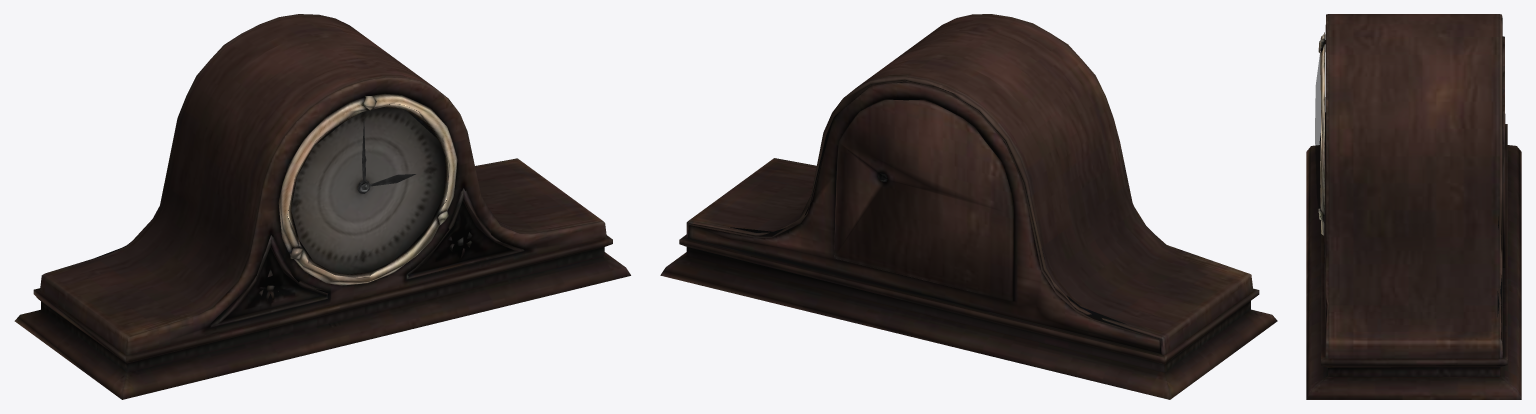
Rendered from mantel_clock_01.glb.
The picture shows the model from 3 angles, left to right: view 1: azimuth 30°, elevation 25°; view 2: azimuth 150°, elevation 25°; view 3: azimuth 270°, elevation 25°; orthographic projection.
Parts seen in each view (by area): view 1: mantel_clock_01, mantel_clock_01_glass; view 2: mantel_clock_01; view 3: mantel_clock_01, mantel_clock_01_glass.
Boxes of the visible parts, <box> form: mantel_clock_01: <box>14,14,630,399</box>; mantel_clock_01_glass: <box>289,105,447,276</box>; mantel_clock_01: <box>660,14,1277,399</box>; mantel_clock_01: <box>1306,14,1521,399</box>; mantel_clock_01_glass: <box>1315,50,1320,221</box>.
Size of the model in its own units: 0.3418 by 0.1604 by 0.1252.
Materials: 2 (2 with a texture image).
